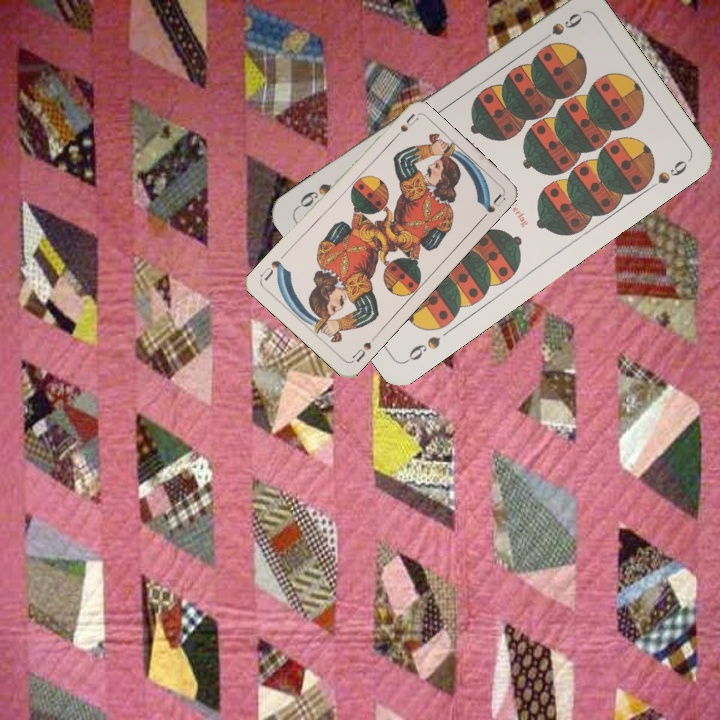S9: (532, 8, 585, 48), (401, 331, 443, 365)
SU: (386, 111, 419, 145), (348, 332, 379, 365)
